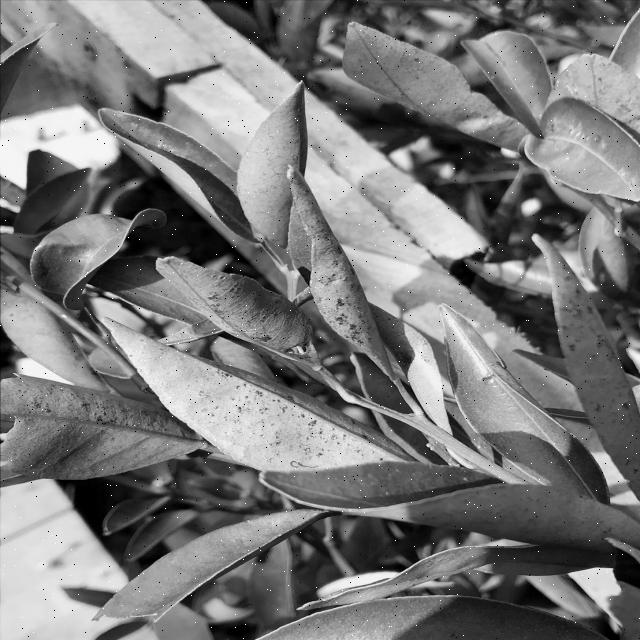melanose: (112, 318, 412, 513), (126, 250, 327, 406), (533, 224, 640, 488), (255, 168, 390, 374), (0, 354, 193, 498)
